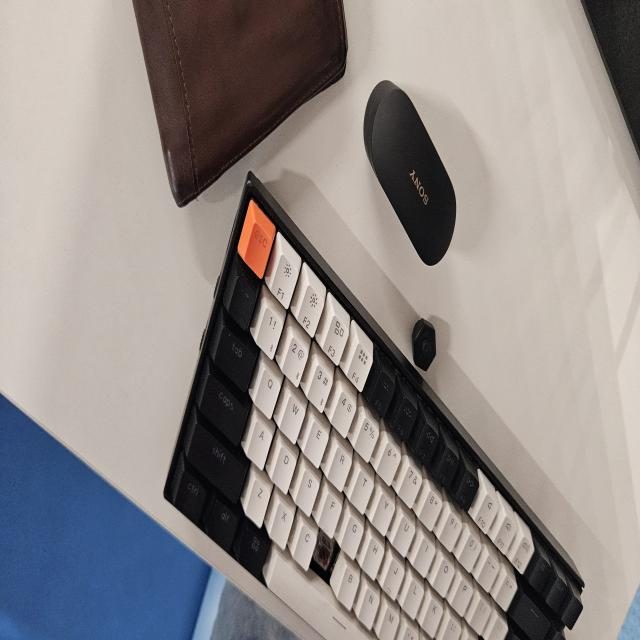C: (314, 538, 333, 579)
